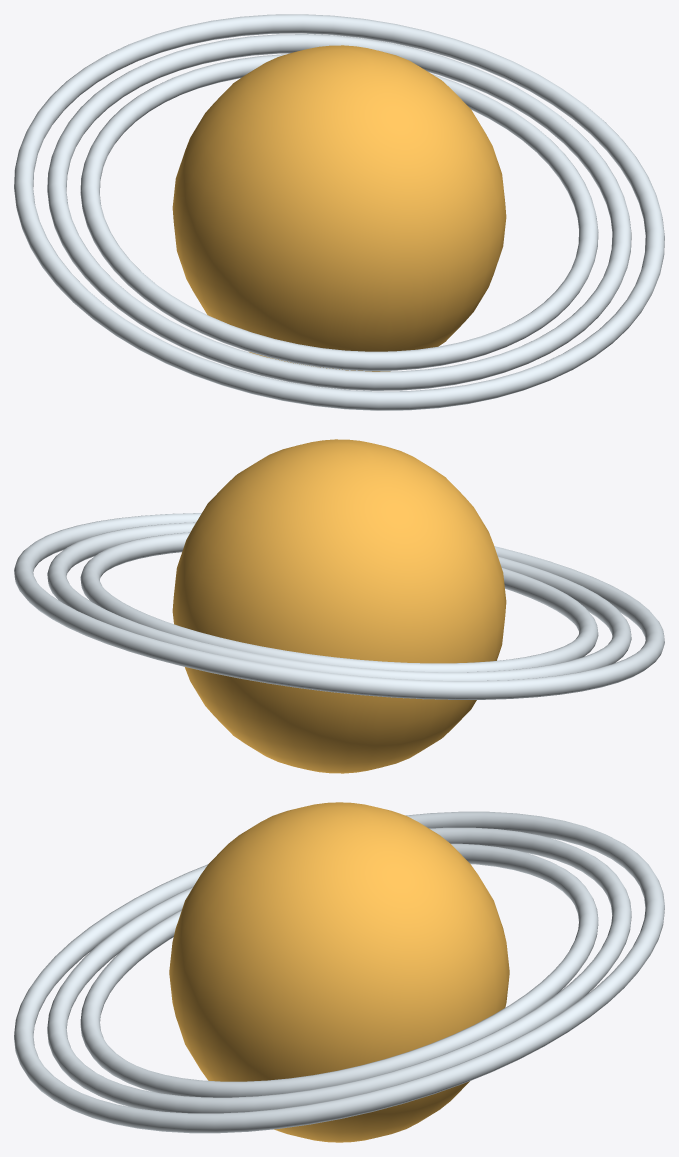
Rendered from ringed-planet-quality.glb.
The picture shows the model from 3 angles, top to bottom: view 1: azimuth 30°, elevation 25°; view 2: azimuth 150°, elevation 25°; view 3: azimuth 270°, elevation 25°; orthographic projection.
Parts seen in each view (by area): view 1: Planet; view 2: Planet; view 3: Planet.
Boxes of the visible parts, x1,y1,x2,y2 form: Planet: [14, 14, 664, 410]; Planet: [14, 439, 664, 773]; Planet: [14, 802, 664, 1142].
Size of the model in its own units: 2.35 by 1.2 by 2.29.
